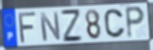8: (84, 8, 102, 41)
C: (103, 8, 127, 39)
F: (18, 10, 38, 45)
N: (38, 11, 62, 43)
P: (124, 6, 146, 40)
Z: (60, 8, 84, 44)
